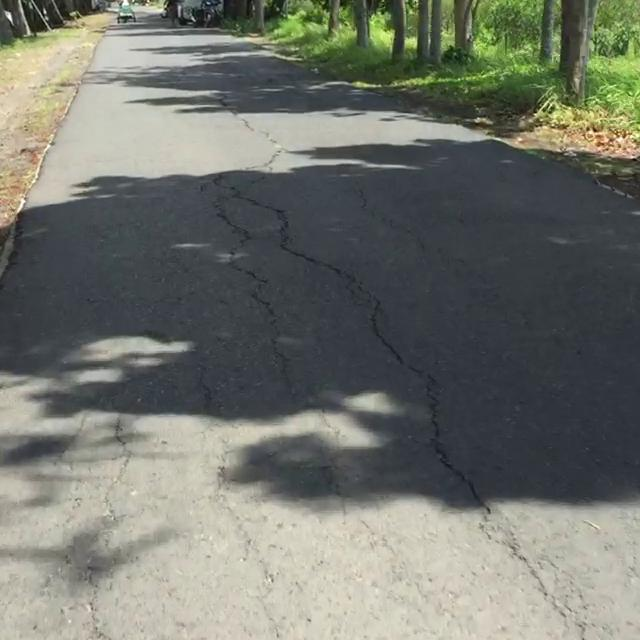retak_memanjang: (274, 221, 621, 640), (191, 64, 297, 241)
